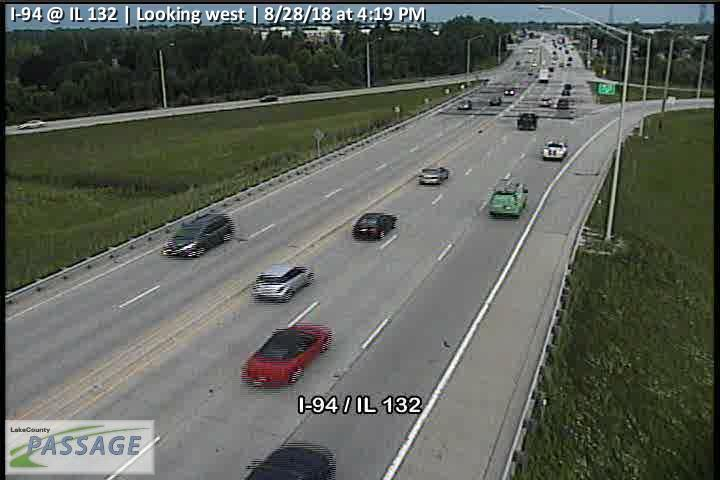SUV: (161, 210, 235, 260)
Sedan: (245, 324, 333, 387), (237, 443, 336, 480), (252, 264, 314, 302), (488, 182, 530, 218), (353, 212, 397, 240), (417, 166, 447, 185), (541, 142, 567, 161), (518, 112, 537, 128)
